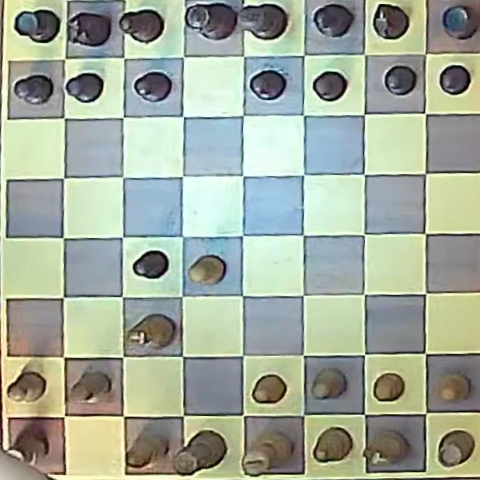black-bishop: (119, 9, 164, 44), (313, 4, 353, 38)
black-king: (238, 4, 285, 40)
black-knight: (67, 12, 112, 47), (373, 4, 409, 39)
black-pawn: (133, 71, 172, 102), (14, 74, 54, 104), (65, 72, 104, 102), (250, 70, 286, 99), (133, 250, 169, 279), (313, 71, 347, 100), (384, 65, 416, 95), (439, 65, 471, 95)
black-queen: (185, 3, 239, 40)
black-rook: (14, 9, 59, 43), (441, 5, 478, 39)
white-bishop: (127, 432, 169, 469), (313, 427, 353, 463)
white-king: (243, 429, 294, 475)
white-knight: (127, 314, 175, 349), (363, 430, 409, 466)
white-pawn: (70, 371, 111, 403), (8, 371, 46, 402), (188, 255, 225, 284), (312, 368, 346, 399), (252, 374, 287, 404), (437, 374, 469, 402), (374, 373, 405, 401)
white-queen: (174, 430, 226, 475)
white-rook: (9, 428, 48, 465), (437, 431, 475, 467)
